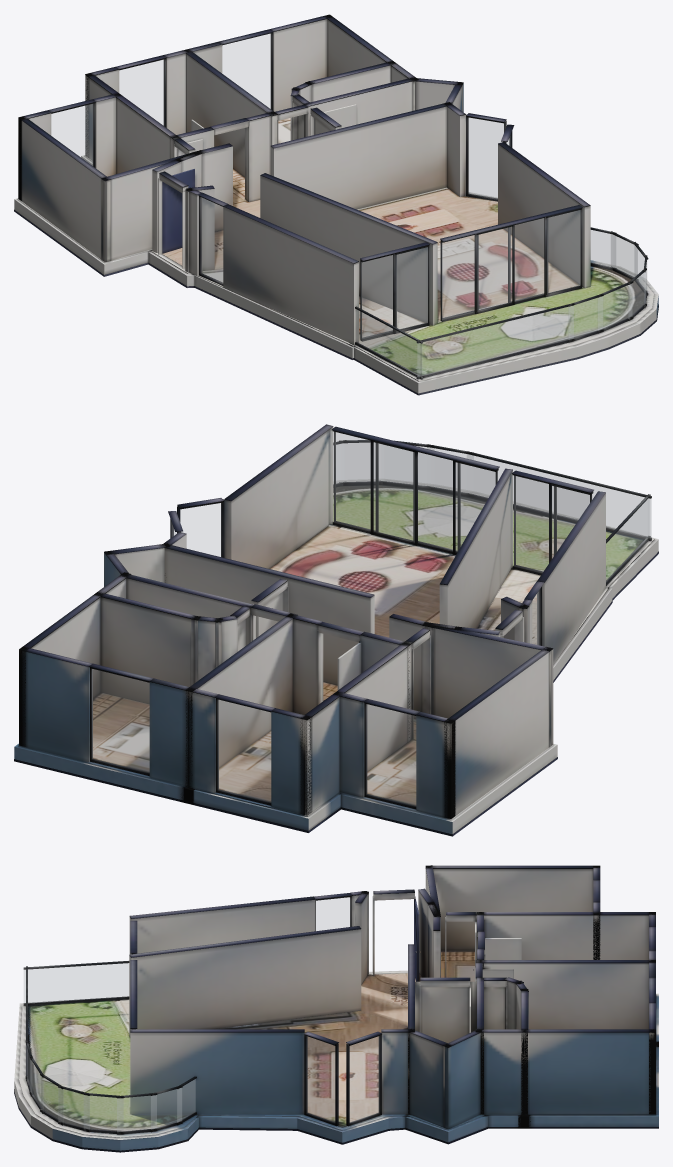
The picture shows the model from 3 angles, top to bottom: view 1: azimuth 30°, elevation 25°; view 2: azimuth 150°, elevation 25°; view 3: azimuth 270°, elevation 25°; orthographic projection. The views are drawn at different scales.
Visible parts, largest first — view 1: plan, glass6_m, railg8_m, glass7_m, glass2_m, glass4_m, railg9_m, glass1_m, glass0_m, glass3_m, railg7_m, railg6_m (+3 smaller); view 2: plan, glass6_m, glass2_m, railg8_m, glass1_m, glass7_m, glass0_m, glass5_m, railg9_m, railg6_m, railg5_m, railg7_m; view 3: plan, railg9_m, glass4_m, glass5_m, railg2_m, railg3_m, railg4_m, glass3_m, railg1_m, railg5_m, railg0_m, railg6_m.
Boxes of the visible parts, x1=… form: plan: x1=14, y1=14, x2=658, y2=395; glass6_m: x1=442, y1=210, x2=580, y2=319; railg8_m: x1=417, y1=306, x2=573, y2=376; glass7_m: x1=361, y1=247, x2=427, y2=338; glass2_m: x1=222, y1=34, x2=270, y2=108; glass4_m: x1=468, y1=118, x2=503, y2=198; railg9_m: x1=356, y1=309, x2=421, y2=376; glass1_m: x1=119, y1=60, x2=164, y2=125; glass0_m: x1=51, y1=104, x2=93, y2=165; glass3_m: x1=201, y1=197, x2=222, y2=282; railg7_m: x1=568, y1=296, x2=602, y2=339; railg6_m: x1=598, y1=284, x2=632, y2=330; plan: x1=14, y1=424, x2=658, y2=836; glass6_m: x1=333, y1=432, x2=495, y2=551; glass2_m: x1=92, y1=669, x2=149, y2=772; railg8_m: x1=467, y1=454, x2=651, y2=537; glass1_m: x1=218, y1=700, x2=270, y2=802; glass7_m: x1=513, y1=476, x2=592, y2=572; glass0_m: x1=366, y1=704, x2=415, y2=806; glass5_m: x1=180, y1=503, x2=221, y2=556; railg9_m: x1=606, y1=499, x2=648, y2=581; railg6_m: x1=384, y1=445, x2=433, y2=485; railg5_m: x1=344, y1=443, x2=380, y2=481; railg7_m: x1=427, y1=447, x2=473, y2=492; plan: x1=14, y1=865, x2=658, y2=1152; railg9_m: x1=24, y1=963, x2=128, y2=1002; glass4_m: x1=350, y1=1036, x2=379, y2=1122; glass5_m: x1=307, y1=1036, x2=334, y2=1122; railg2_m: x1=117, y1=1095, x2=156, y2=1131; railg3_m: x1=84, y1=1095, x2=123, y2=1131; railg4_m: x1=58, y1=1088, x2=89, y2=1129; glass3_m: x1=316, y1=897, x2=350, y2=930; railg1_m: x1=151, y1=1088, x2=181, y2=1129; railg5_m: x1=41, y1=1076, x2=63, y2=1122; railg0_m: x1=177, y1=1079, x2=195, y2=1122; railg6_m: x1=30, y1=1060, x2=43, y2=1110.
Size of the model in its own units: 11.42 by 2.62 by 16.11.
2 materials, 1 textured.
